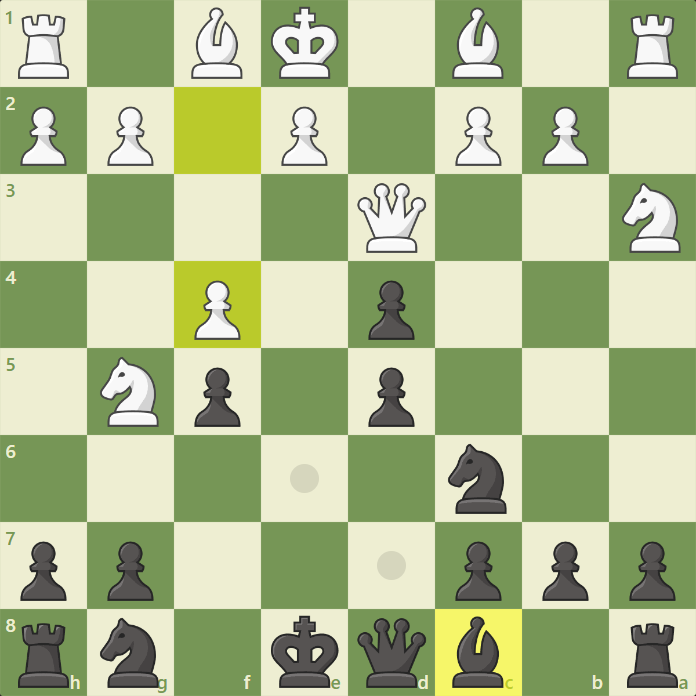B: (188, 5, 245, 82), (449, 6, 506, 81)
K: (268, 4, 340, 82)
N: (98, 354, 161, 430), (620, 182, 683, 255)
P: (192, 278, 243, 343), (18, 104, 68, 168), (106, 104, 156, 168), (279, 104, 329, 168), (453, 105, 503, 169), (540, 104, 590, 168)
Q: (355, 181, 428, 255)
R: (623, 12, 681, 82), (14, 12, 71, 82)
b: (449, 615, 505, 691)
k: (266, 614, 342, 693)
n: (98, 616, 163, 691), (446, 442, 509, 516)
p: (17, 540, 68, 604), (104, 540, 155, 604), (191, 366, 242, 430), (365, 365, 416, 429), (364, 279, 415, 343), (452, 540, 503, 604), (540, 539, 591, 603), (626, 540, 677, 604)
q: (353, 616, 429, 690)
r: (625, 621, 681, 691), (17, 621, 72, 691)
